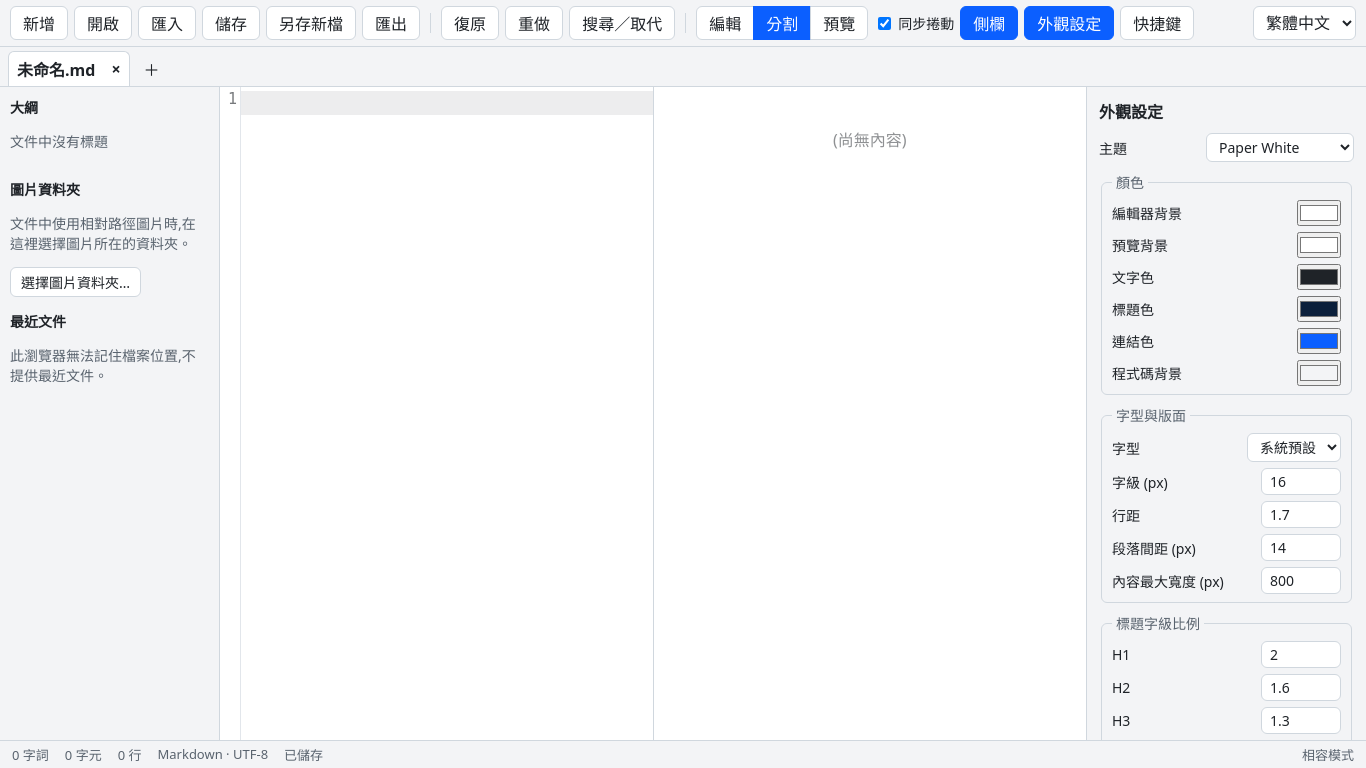
Test: image folder › belongs to one document: another tab starts without it
Click the button "開啟" at (103, 23), box 74,6 -> 132,40
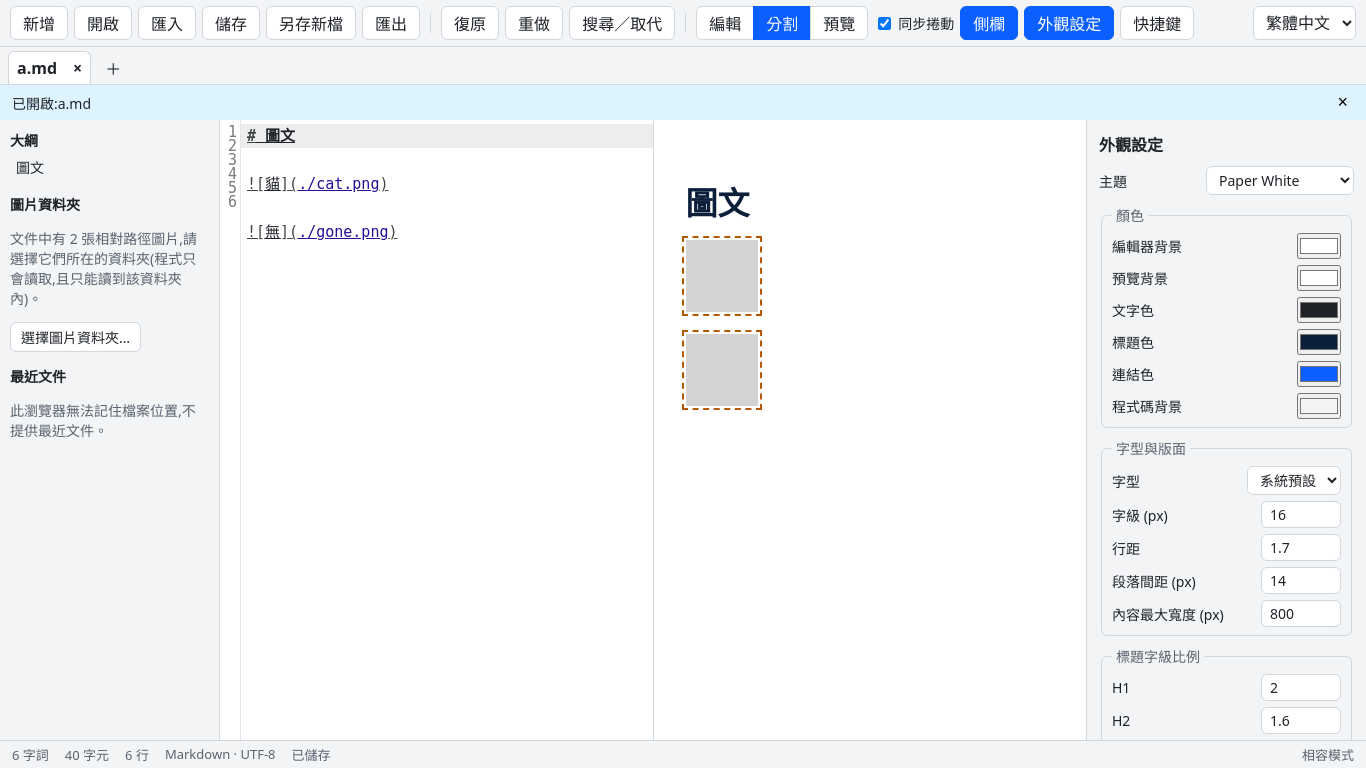
Click the button "選擇圖片資料夾…" at (76, 337), box 10,322 -> 141,352
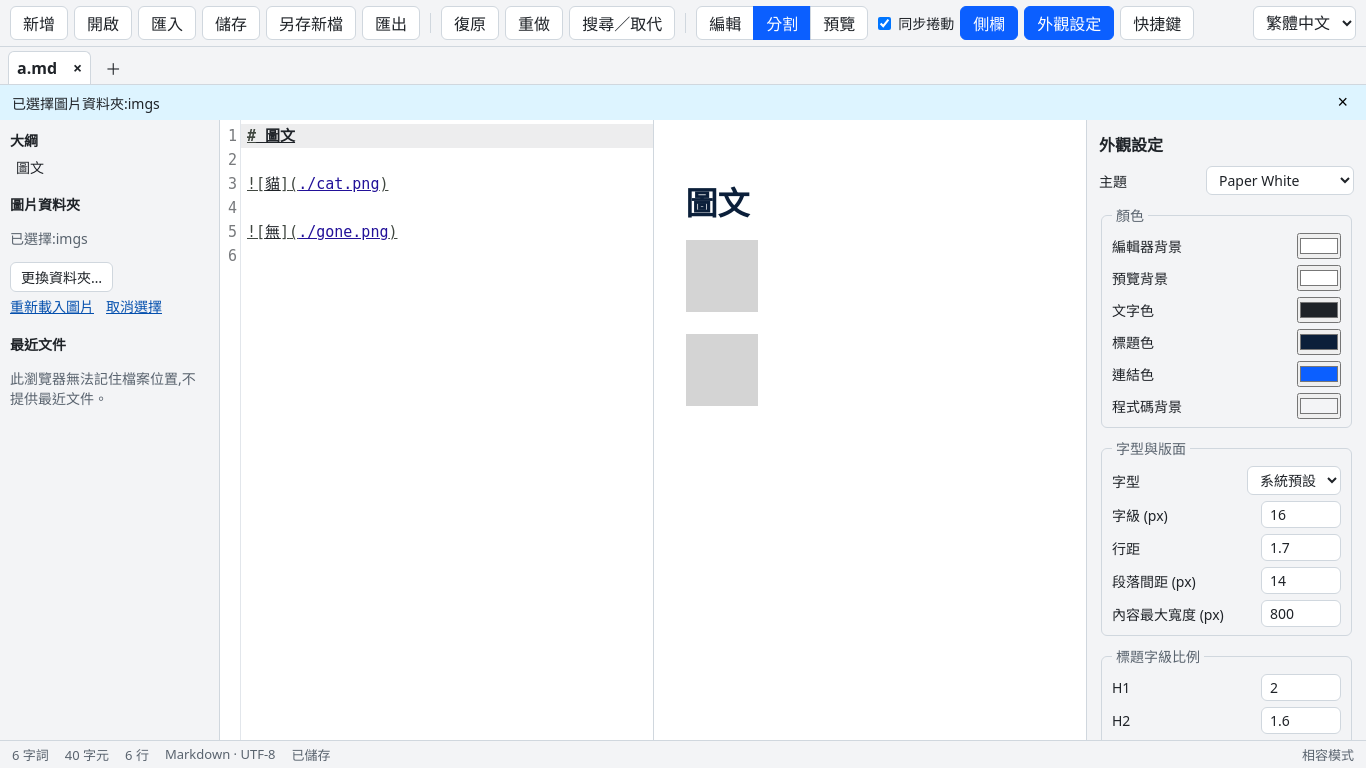
Click the button "開啟" at (103, 23), box 74,6 -> 132,40
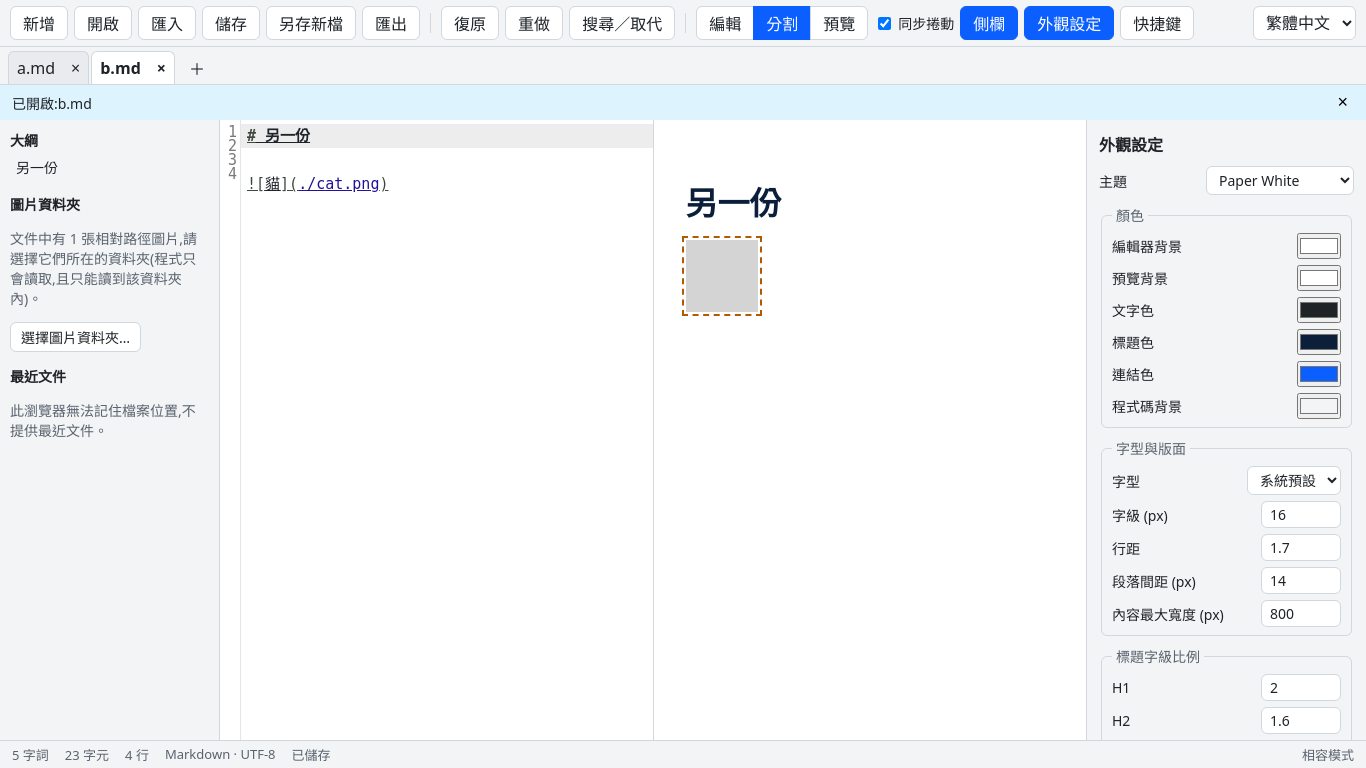
Expected: the text "已選擇" is gone
Click the button titled "a.md" at (36, 68), box 9,52 -> 63,84
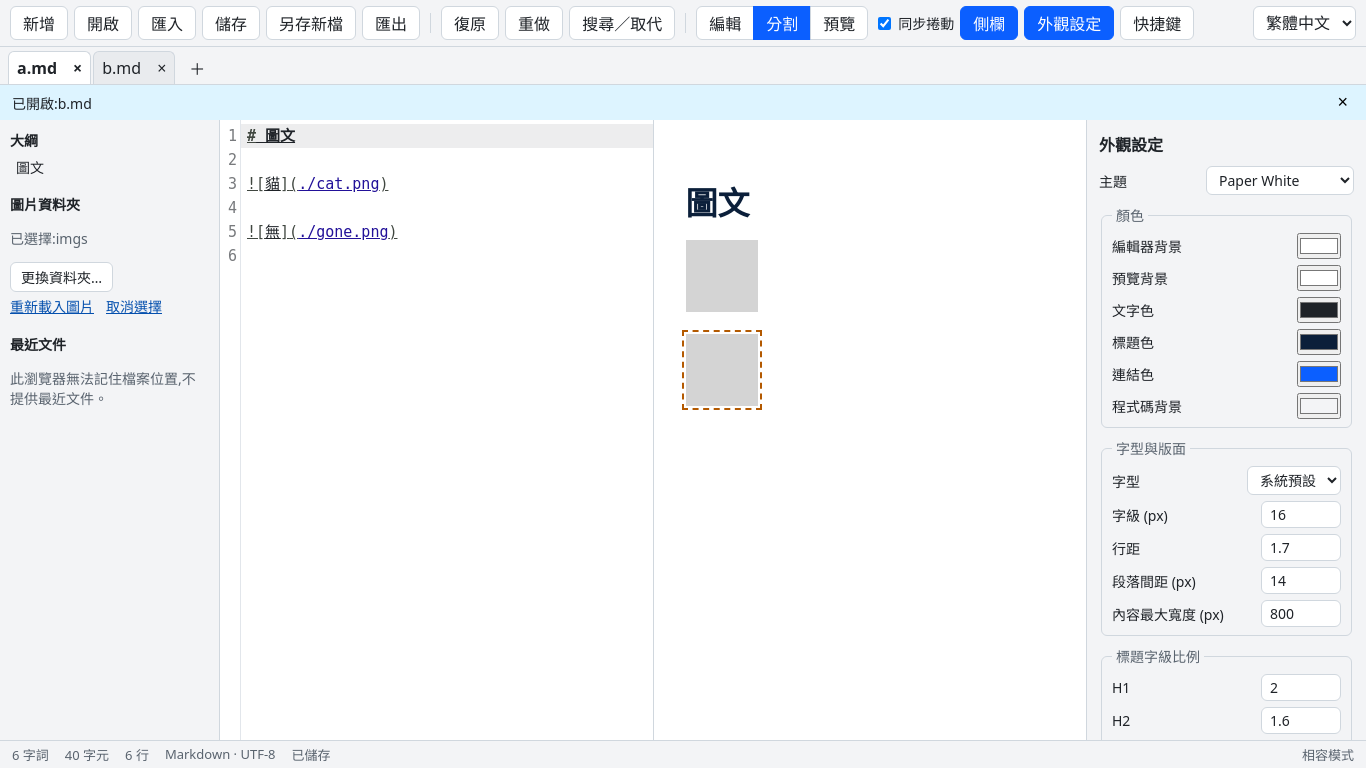
Expected: the text "已選擇:imgs" is shown, 10,229 -> 88,248
